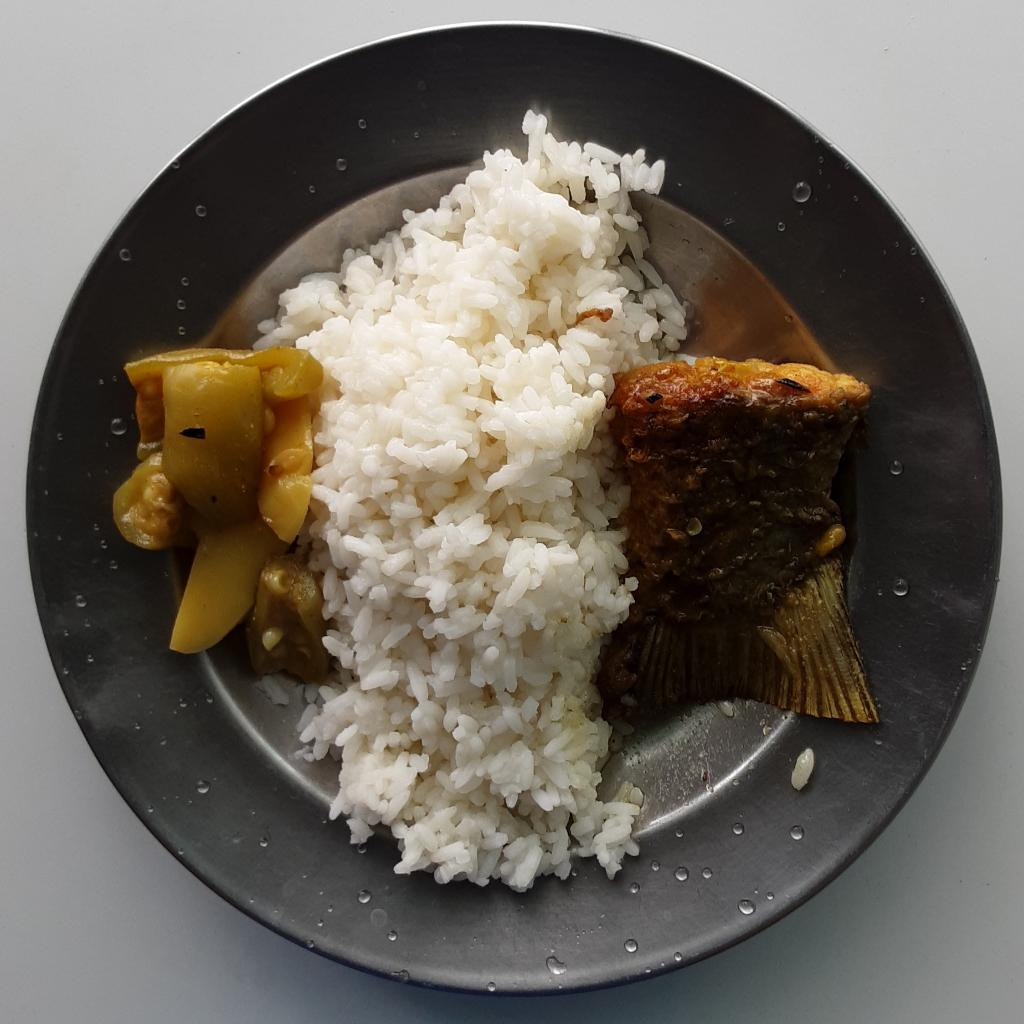fish: (600, 358, 892, 733)
potato: (166, 402, 311, 652)
potol: (107, 344, 325, 552)
rice: (253, 105, 690, 893)
